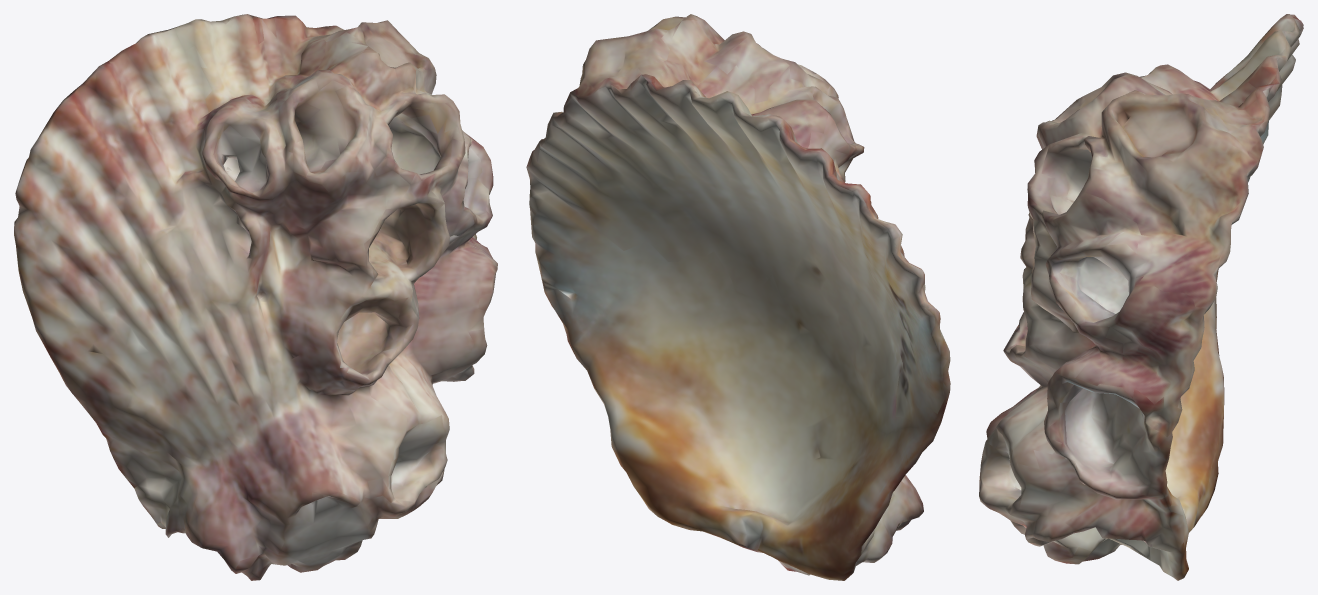
Rendered from 399.08_shell_with_barnacles_FBX_still.fbx.
3 renders of one model, left to right at view 1: azimuth 30°, elevation 25°; view 2: azimuth 150°, elevation 25°; view 3: azimuth 270°, elevation 25°, orthographic. The views are drawn at different scales.
Parts seen in each view (by area): view 1: 399.08_shell_with_barnacles_gameasset; view 2: 399.08_shell_with_barnacles_gameasset; view 3: 399.08_shell_with_barnacles_gameasset.
Part boxes in pixels (box(x1,y1,x2,y2)): 399.08_shell_with_barnacles_gameasset: box(14, 14, 497, 580); 399.08_shell_with_barnacles_gameasset: box(526, 14, 950, 580); 399.08_shell_with_barnacles_gameasset: box(979, 14, 1303, 580).
Bounding box in the file's own units: 36.33 × 40.72 × 22.83.
1 material, 1 textured.
